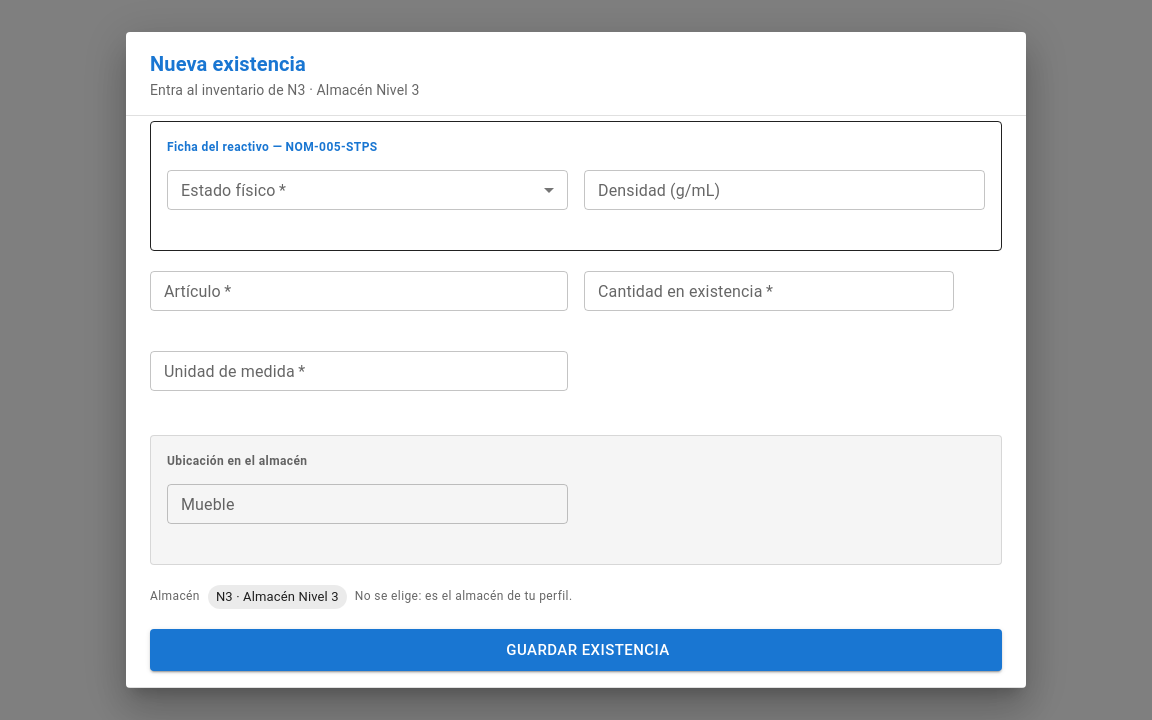
Test: DialogoNuevaExistencia › un obligatorio vacío frena el envío y dice cuál falta
(page scrolled)
What coordinates should you click on to do the following:
click the button "Guardar existencia"
I would click on:
 (576, 650)
Its box is left=150, top=629, right=1002, bottom=671.
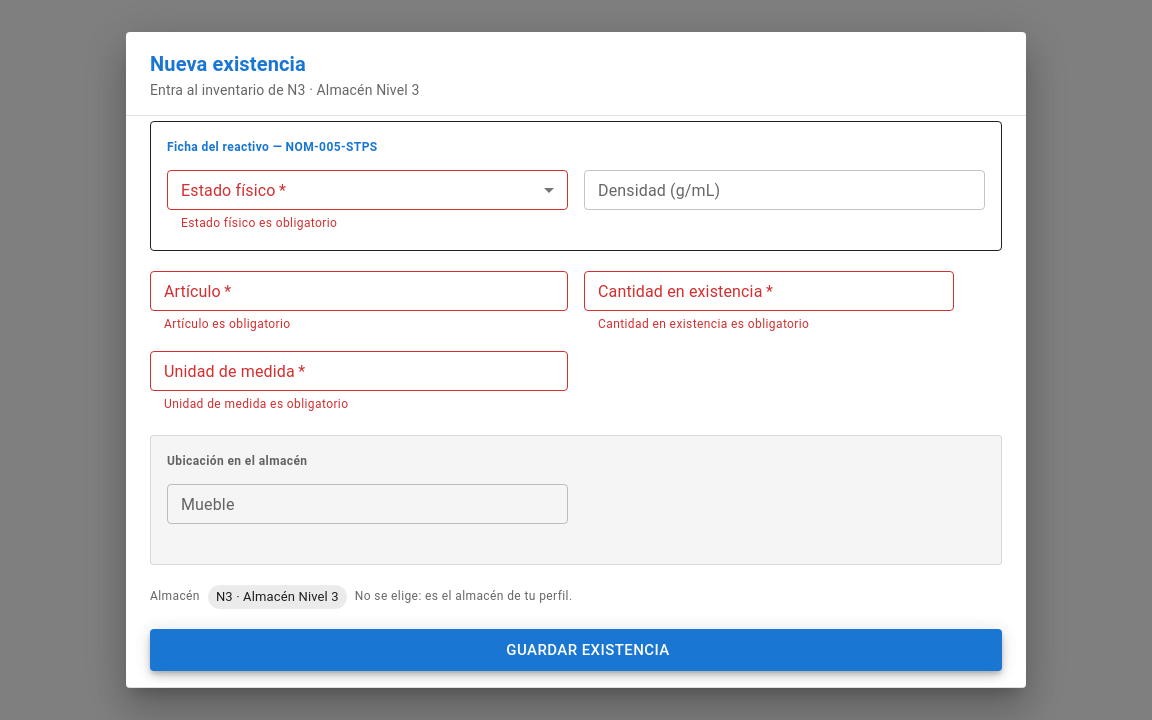
Check: the text "Artículo es obligatorio" is shown, box left=164, top=317, right=291, bottom=331
